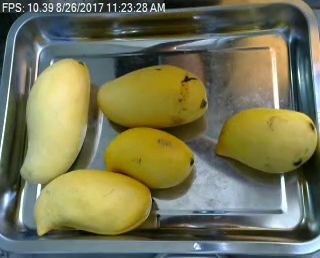Mango: (21, 58, 89, 182), (34, 171, 152, 237), (98, 65, 206, 125), (214, 109, 317, 171), (104, 128, 197, 188)
